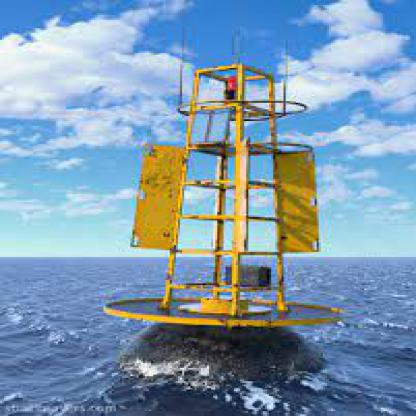buoy: (95, 19, 350, 332)
